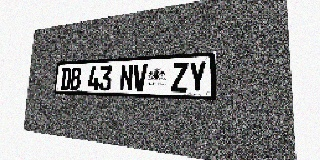3: (99, 65, 112, 91)
4: (88, 66, 100, 90)
B: (70, 67, 81, 90)
D: (60, 67, 71, 90)
N: (119, 64, 133, 91)
V: (133, 64, 147, 91)
Y: (189, 61, 206, 93)
Z: (171, 62, 188, 92)
